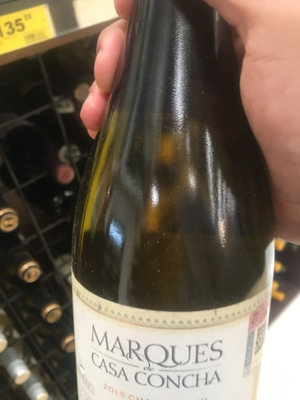marques de casa concha chardonnay: (65, 29, 276, 400)
